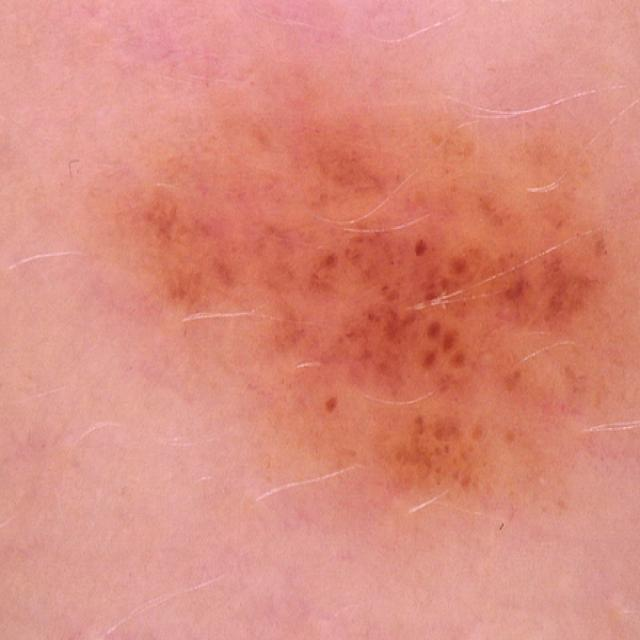NV: (83, 58, 635, 521)
